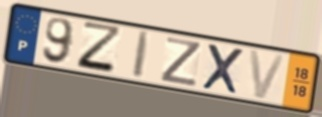9: (41, 17, 76, 66)
I: (130, 29, 153, 81)
V: (247, 48, 288, 101)
X: (200, 41, 246, 97)
Z: (75, 20, 125, 77), (158, 35, 204, 89)
